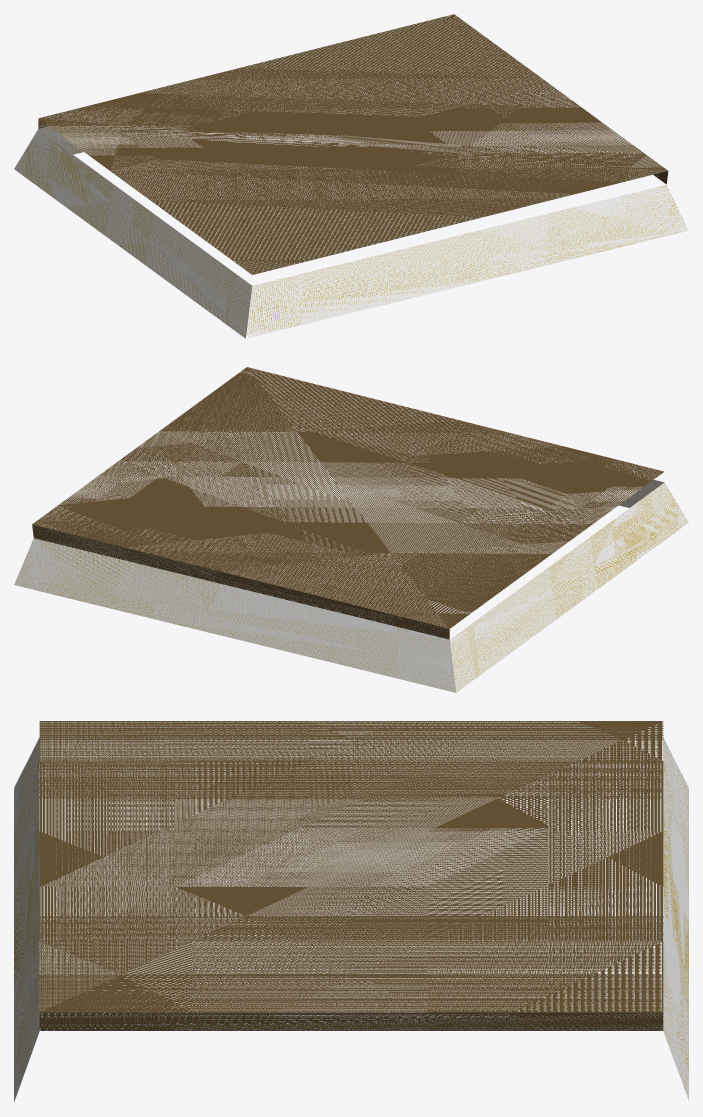
Rendered from original-74.obj.
3 views of the same model, one above another, from view 1: azimuth 30°, elevation 25°; view 2: azimuth 150°, elevation 25°; view 3: azimuth 270°, elevation 25° (orthographic). The views are drawn at different scales.
Parts seen in each view (by area): view 1: tus72/tus/mesh1/mesh1-geometry#mesh1-geometry; view 2: tus72/tus/mesh1/mesh1-geometry#mesh1-geometry; view 3: tus72/tus/mesh1/mesh1-geometry#mesh1-geometry.
Part boxes in pixels (x1,y1,x2,y2): tus72/tus/mesh1/mesh1-geometry#mesh1-geometry: (14,14,688,338); tus72/tus/mesh1/mesh1-geometry#mesh1-geometry: (14,367,688,692); tus72/tus/mesh1/mesh1-geometry#mesh1-geometry: (14,721,688,1101).
Size of the model in its own units: 0.0476 by 0.00578 by 0.0432.
